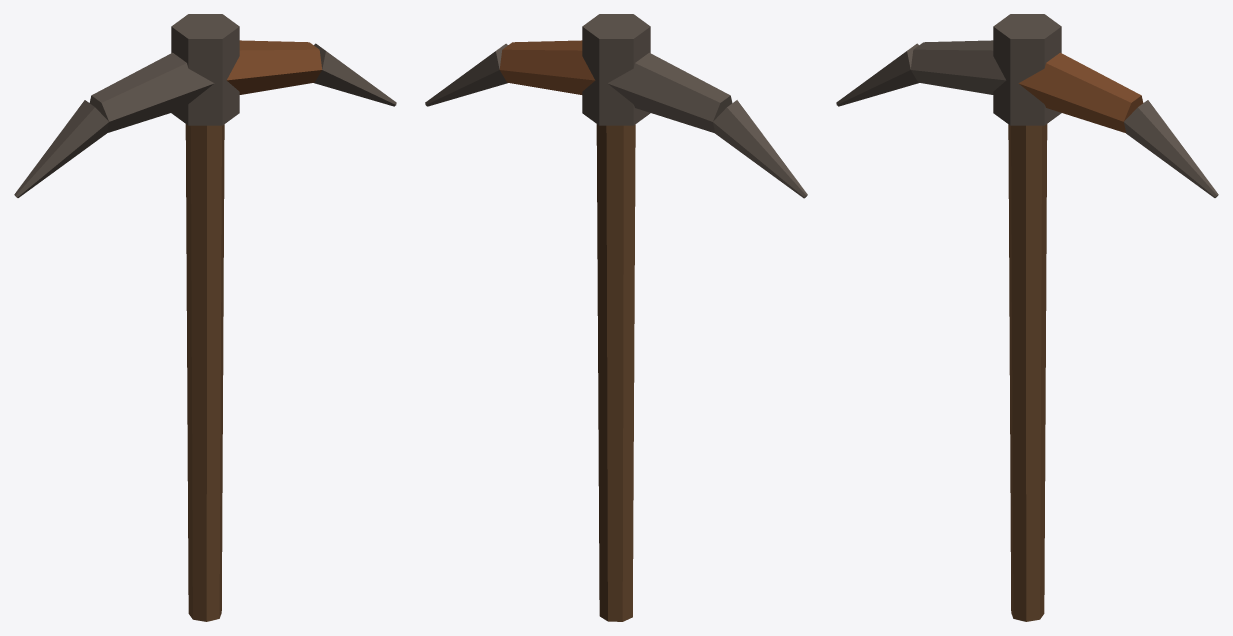
The model's file is miners_pick.glb.
The picture shows the model from 3 angles, left to right: view 1: azimuth 30°, elevation 25°; view 2: azimuth 150°, elevation 25°; view 3: azimuth 330°, elevation 25°; orthographic projection.
Visible parts, largest first — view 1: miners_pick; view 2: miners_pick; view 3: miners_pick.
Part boxes in pixels (x1,y1,x2,y2): miners_pick: (14, 14, 396, 621); miners_pick: (425, 14, 807, 621); miners_pick: (836, 14, 1218, 621).
Size of the model in its own units: 0.644 by 0.95 by 0.1.
